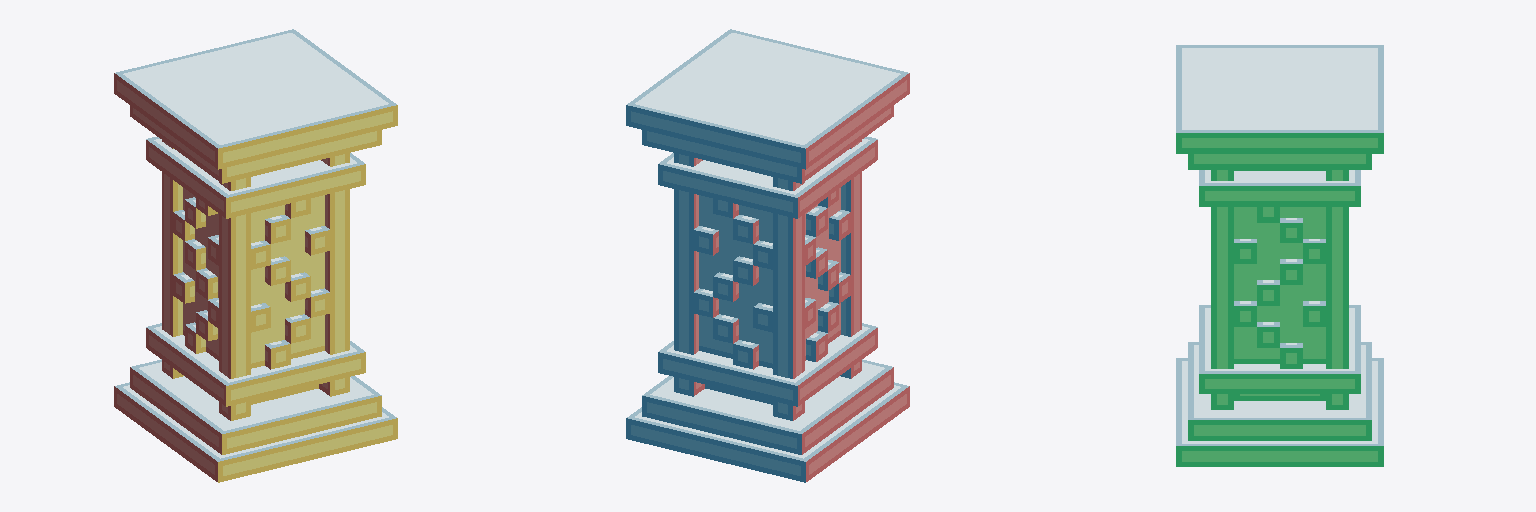
3 views of the same model, side by side, from view 1: azimuth 30°, elevation 25°; view 2: azimuth 150°, elevation 25°; view 3: azimuth 270°, elevation 25° (orthographic).
Visible parts, largest first — view 1: cube; view 2: cube; view 3: cube.
Part boxes in pixels (x1,y1,x2,y2): cube: (114,29,397,482); cube: (626,29,909,482); cube: (1176,45,1383,466).
Bounding box in the file's own units: 0.5625 × 1 × 0.5625.
Materials: 1 (1 with a texture image).